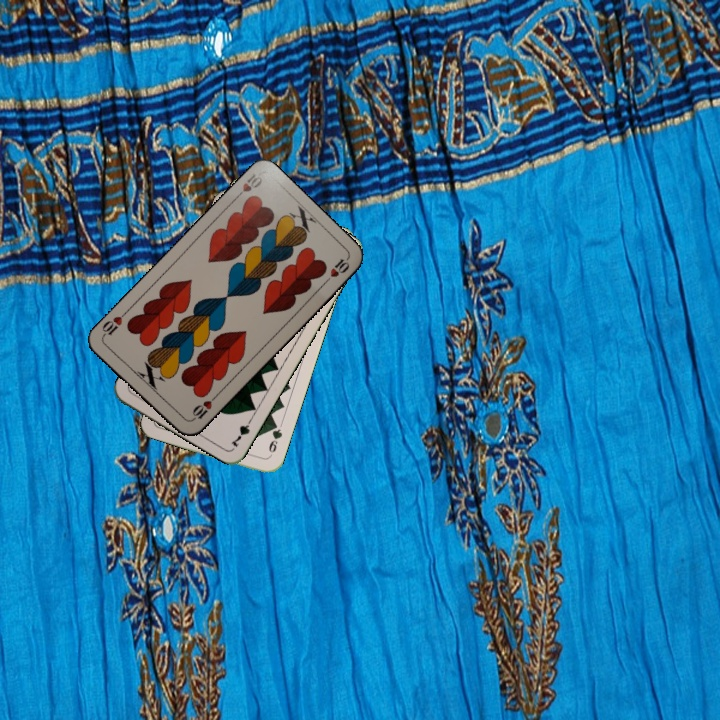G7: (226, 413, 256, 450)
G9: (265, 419, 285, 460)
H10: (230, 170, 266, 203), (187, 391, 219, 424)
